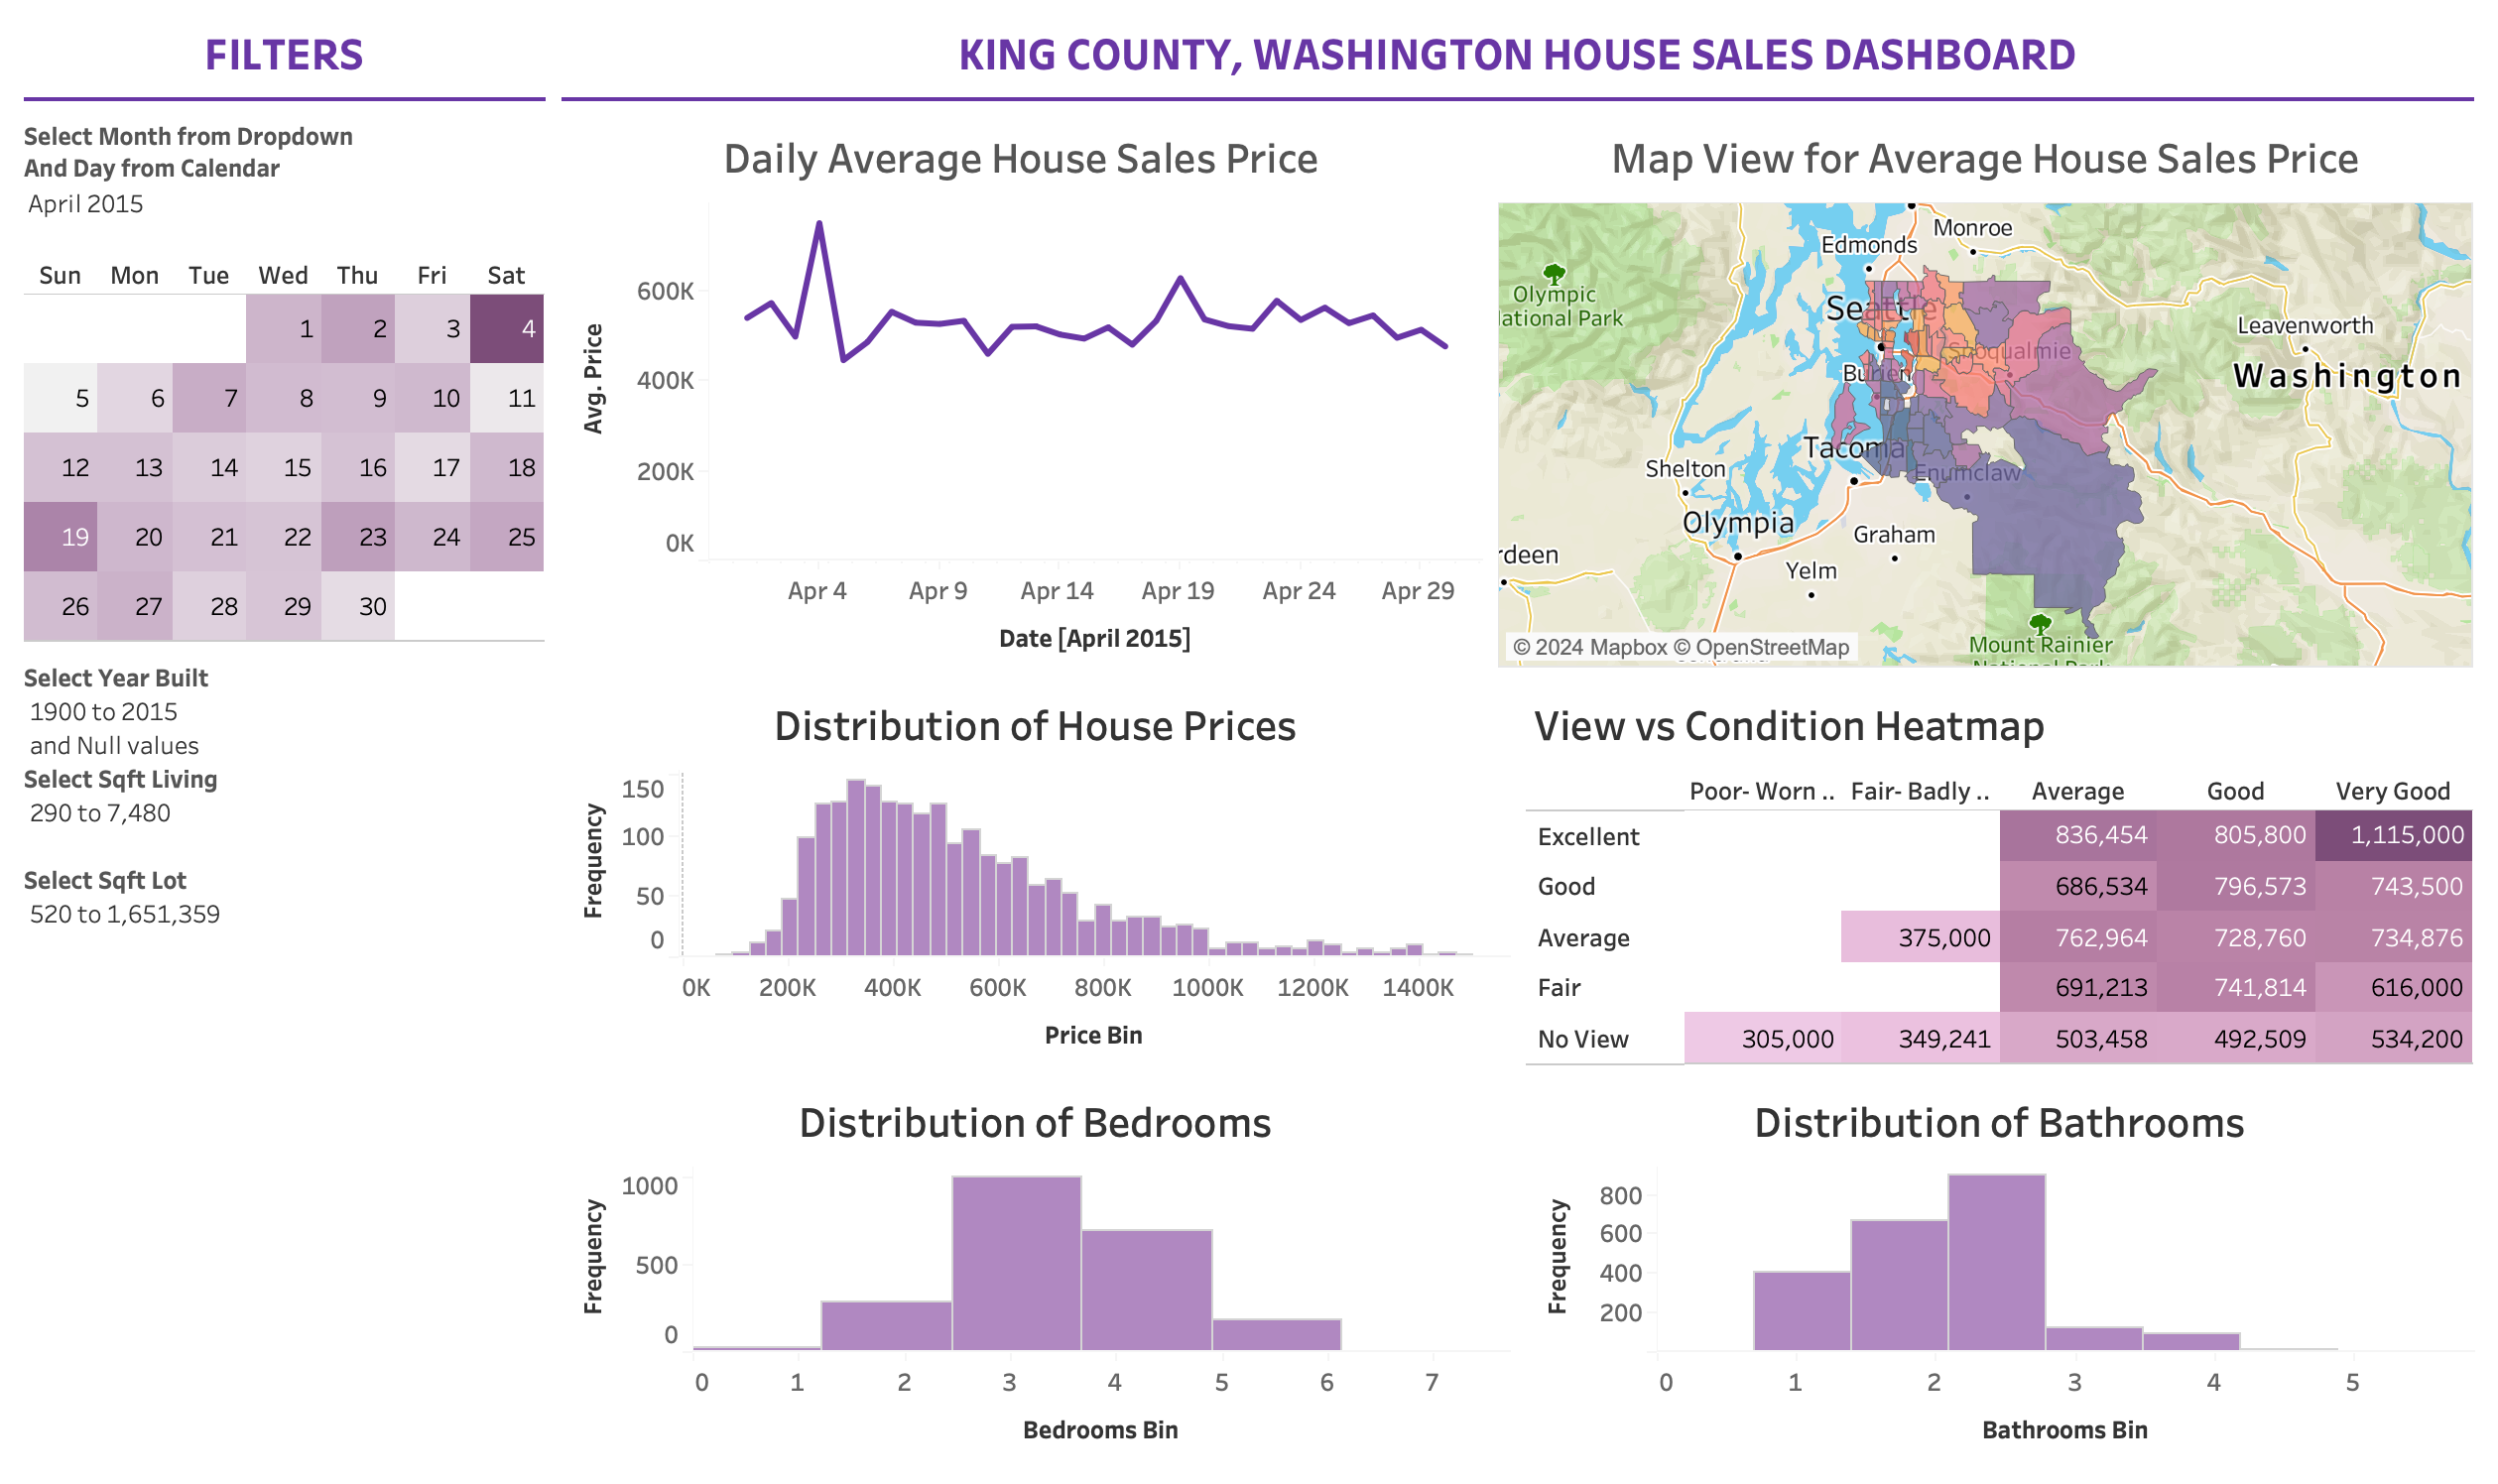

Layout of this report page (visuals, bound fields, positions):
{"tool":"tableau","page":{"name":"King County House Sales","canvas":[1000,1000],"units":"permille","ordinal":0},"visuals":[{"type":"text","box":[6.4,10.7,215.2,49.5]},{"type":"text","box":[221.5,10.7,772.1,49.5]},{"type":"blank","box":[6.4,60.2,215.2,13.4]},{"type":"blank","box":[221.5,60.2,772.1,13.4]},{"type":"filter","title":"Calendar","param":"[federated.1d5xgxx0wlanc01dh82yn10w1cjk].[my:date:ok]","box":[6.4,73.5,215.2,92.2]},{"type":"worksheet","title":"Daily Average House Sales Price","mark":"Automatic","rows":["price"],"cols":["date"],"box":[221.5,73.5,374.9,382.3]},{"type":"worksheet","title":"Map View for Average House Sales Price","mark":"Automatic","box":[596.5,73.5,397.2,382.3]},{"type":"worksheet","title":"Calendar","mark":"Square","rows":["date"],"cols":["date"],"box":[6.4,165.8,215.2,272.7]},{"type":"filter","title":"Calendar","param":"[federated.1d5xgxx0wlanc01dh82yn10w1cjk].[none:yr_built:qk]","box":[6.4,438.5,215.2,68.2]},{"type":"worksheet","title":"Distribution of House Prices","mark":"Automatic","rows":["price"],"cols":["Price (bin)"],"box":[221.5,455.9,386,267.4]},{"type":"worksheet","title":"View vs Condition Heatmap","mark":"Square","rows":["view"],"cols":["condition"],"box":[607.6,455.9,386.1,267.4]},{"type":"filter","title":"Calendar","param":"[federated.1d5xgxx0wlanc01dh82yn10w1cjk].[none:sqft_living:qk]","box":[6.4,506.7,215.2,68.2]},{"type":"filter","title":"Calendar","param":"[federated.1d5xgxx0wlanc01dh82yn10w1cjk].[none:sqft_lot:qk]","box":[6.4,574.9,215.2,68.2]},{"type":"worksheet","title":"Distribution of Bedrooms","mark":"Automatic","rows":["bedrooms"],"cols":["Bedrooms (bin)"],"box":[221.5,723.2,386,266.1]},{"type":"worksheet","title":"Distribution of Bathrooms","mark":"Automatic","rows":["bathrooms"],"cols":["Bathrooms (bin)"],"box":[607.6,723.2,386.1,266.1]}]}

Visuals, with their boxes on the dashboard's canvas, which has no fixed pixel size, in thousandths of its width and height (x1, y1, x2, y2). These are canvas units, not pixel positions in the 2498x1484 screenshot, which may show the page scaled, cropped or inside an application window:
text: {"left": 6, "top": 11, "right": 222, "bottom": 60}
text: {"left": 222, "top": 11, "right": 994, "bottom": 60}
blank: {"left": 6, "top": 60, "right": 222, "bottom": 74}
blank: {"left": 222, "top": 60, "right": 994, "bottom": 74}
"Calendar" filter: {"left": 6, "top": 74, "right": 222, "bottom": 166}
"Daily Average House Sales Price" worksheet: {"left": 222, "top": 74, "right": 596, "bottom": 456}
"Map View for Average House Sales Price" worksheet: {"left": 596, "top": 74, "right": 994, "bottom": 456}
"Calendar" worksheet (Square marks): {"left": 6, "top": 166, "right": 222, "bottom": 438}
"Calendar" filter: {"left": 6, "top": 438, "right": 222, "bottom": 507}
"Distribution of House Prices" worksheet: {"left": 222, "top": 456, "right": 608, "bottom": 723}
"View vs Condition Heatmap" worksheet (Square marks): {"left": 608, "top": 456, "right": 994, "bottom": 723}
"Calendar" filter: {"left": 6, "top": 507, "right": 222, "bottom": 575}
"Calendar" filter: {"left": 6, "top": 575, "right": 222, "bottom": 643}
"Distribution of Bedrooms" worksheet: {"left": 222, "top": 723, "right": 608, "bottom": 989}
"Distribution of Bathrooms" worksheet: {"left": 608, "top": 723, "right": 994, "bottom": 989}
